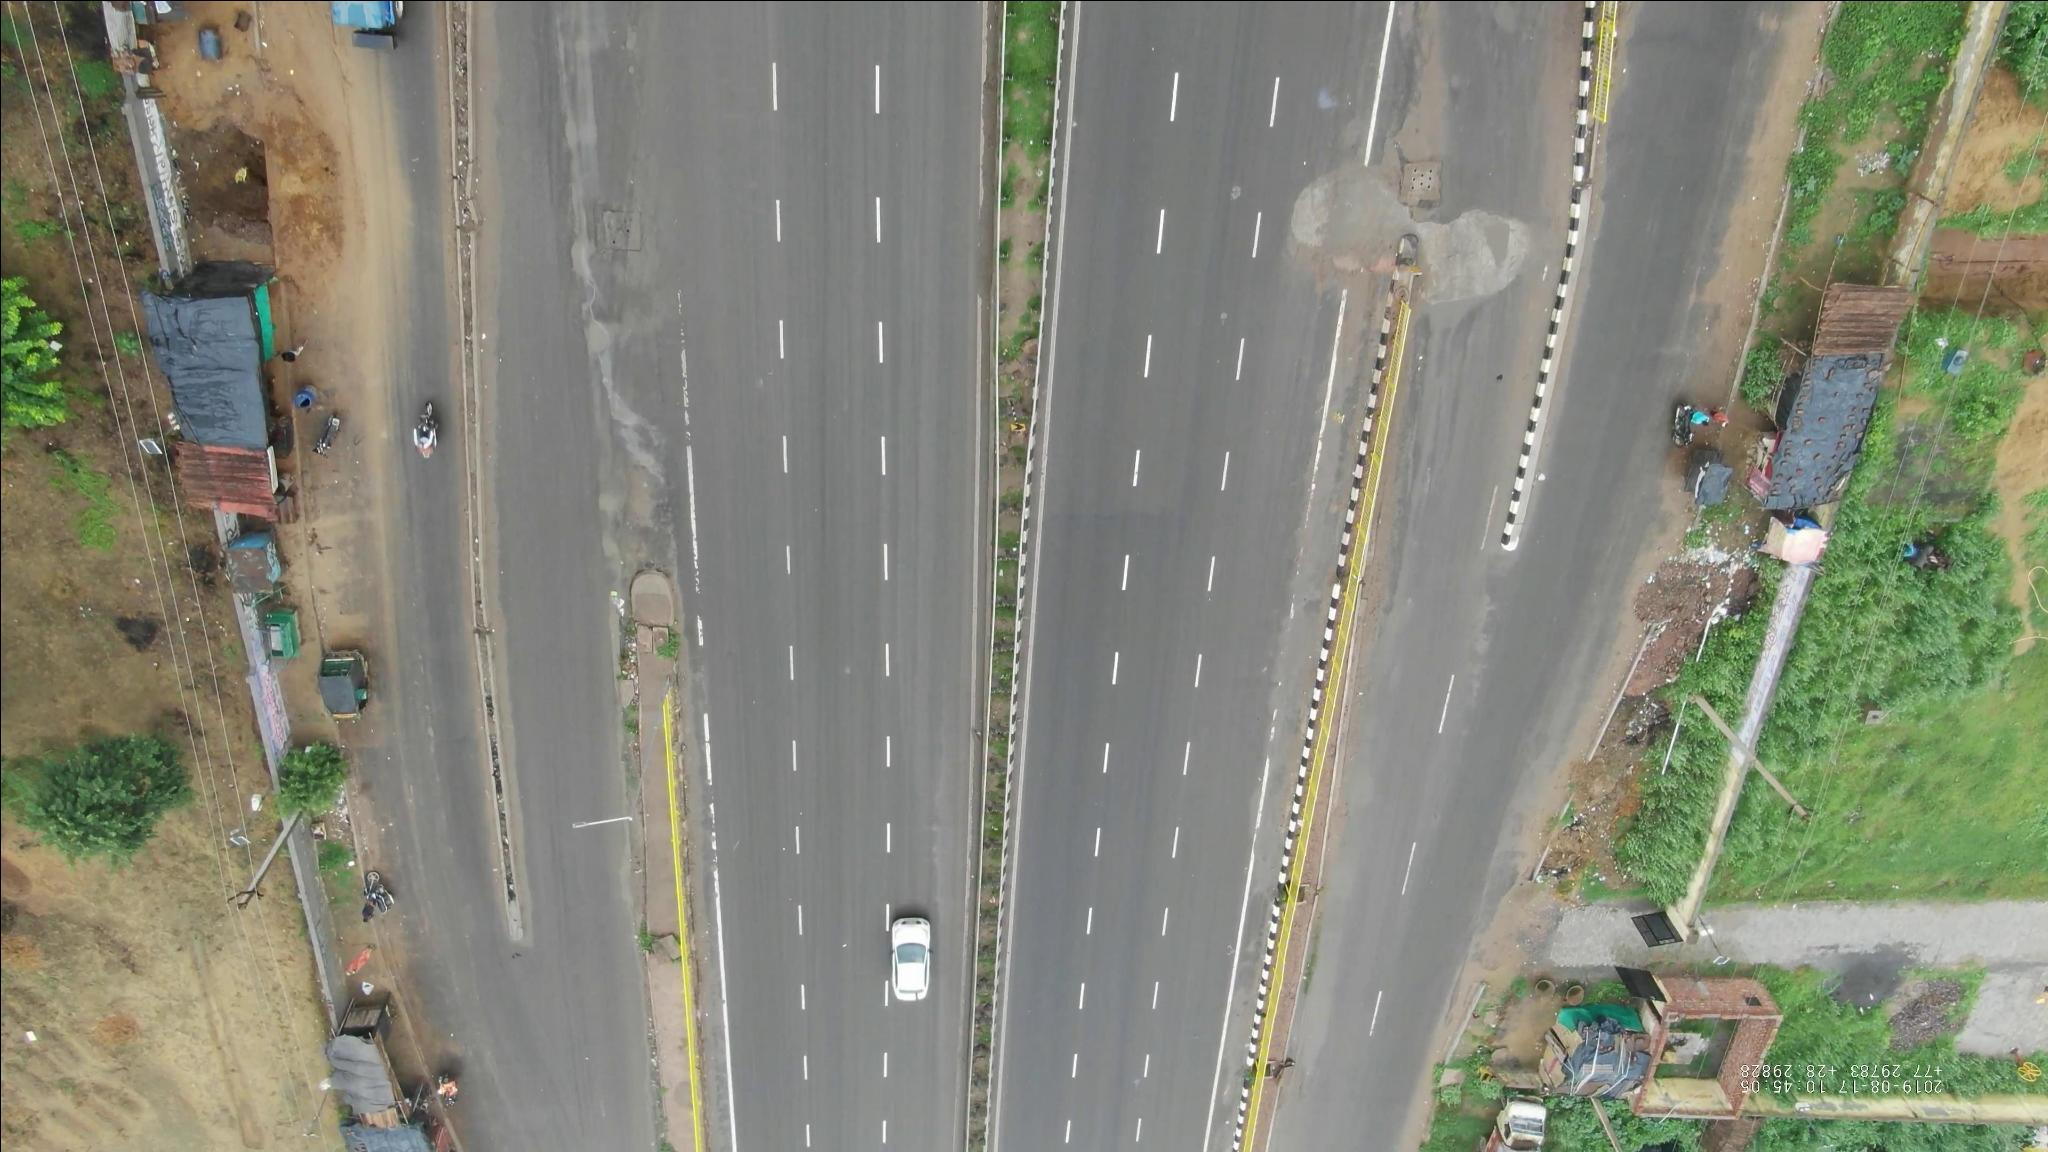Cracks: (560, 179, 685, 550)
Muddy_road: (262, 56, 377, 279)
Potholes: (1291, 83, 1526, 316)
